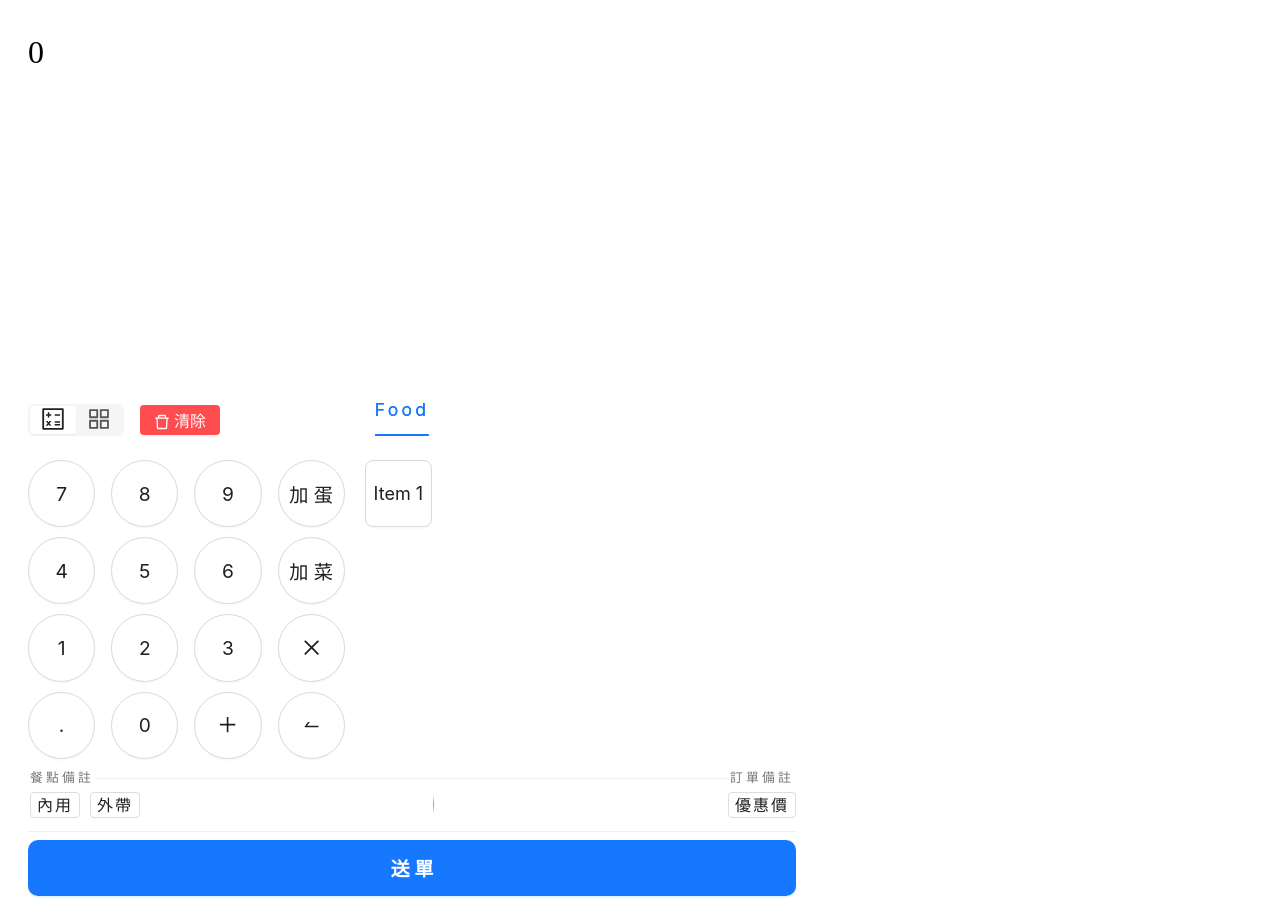
Scenario: Keyboard Component › handles total editing correctly
Note: Add some value first
Click the button "1" at (62, 648), box [28,614,95,682]
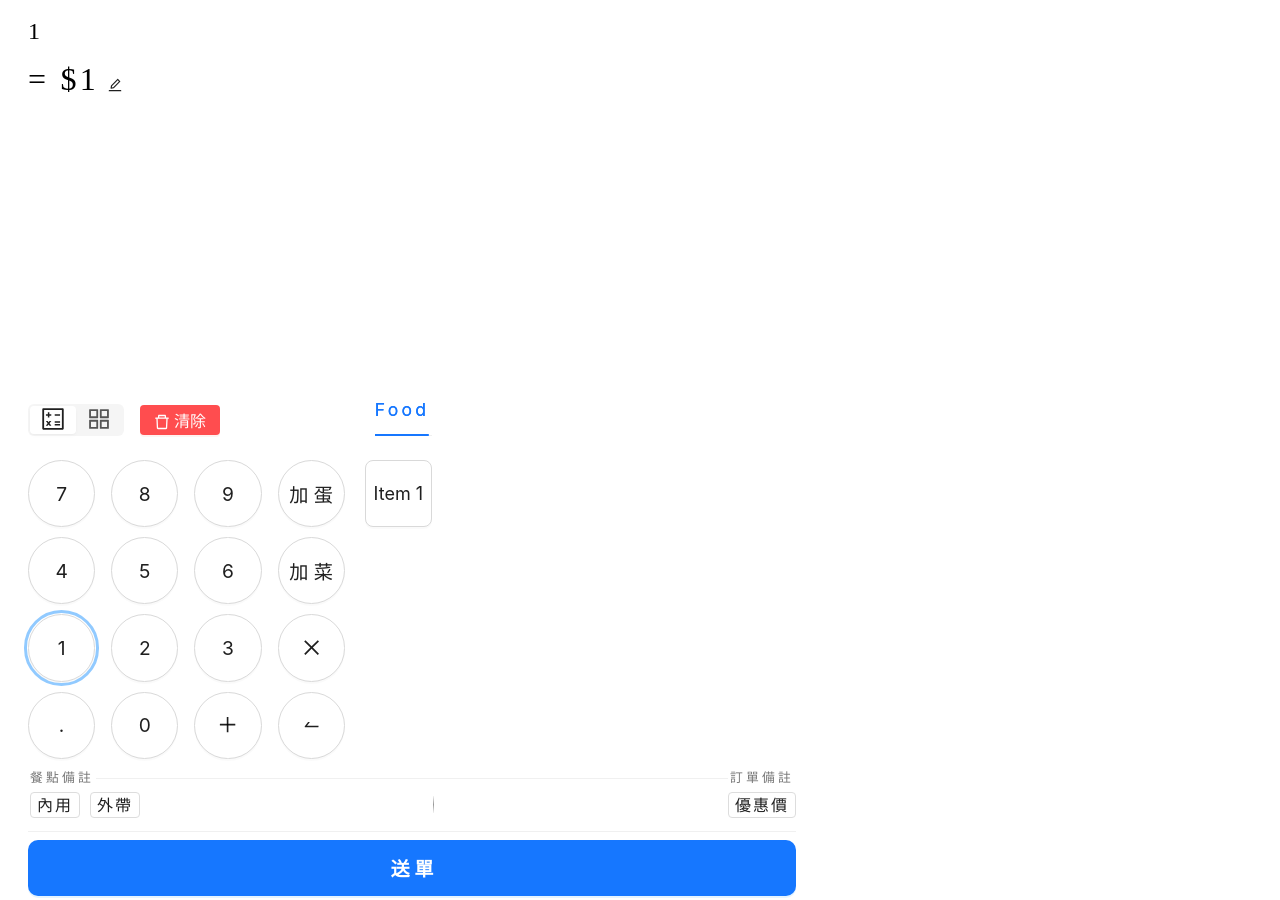
Note: Click edit button
Click the button named "edit" next to "= $1" at (115, 84), box [99,68,131,100]
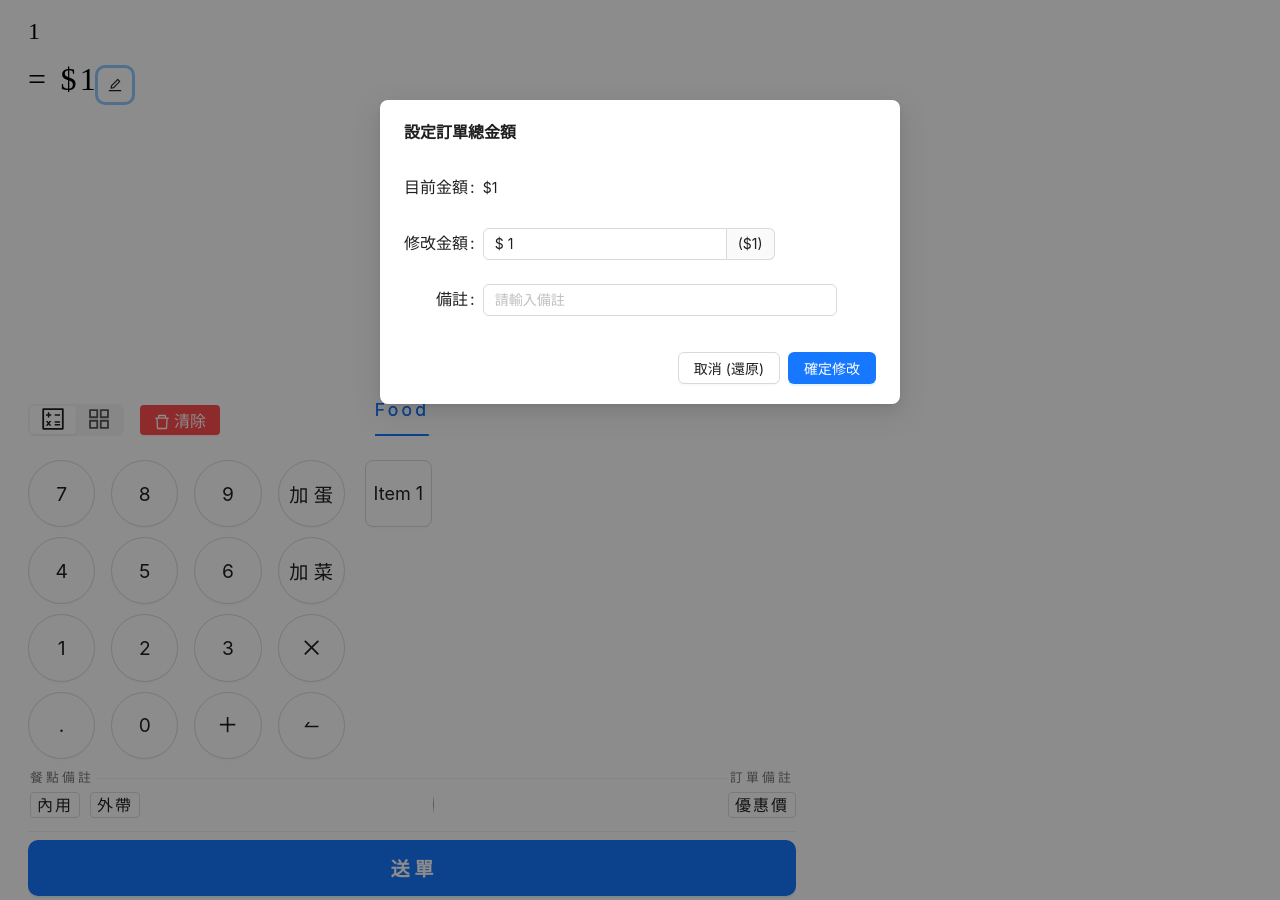
Result: the text "設定訂單總金額" is shown at [404,122,516,142]
Note: Edit the total
Replace the text in the number field with "50" at (617, 244), box [508,229,726,259]
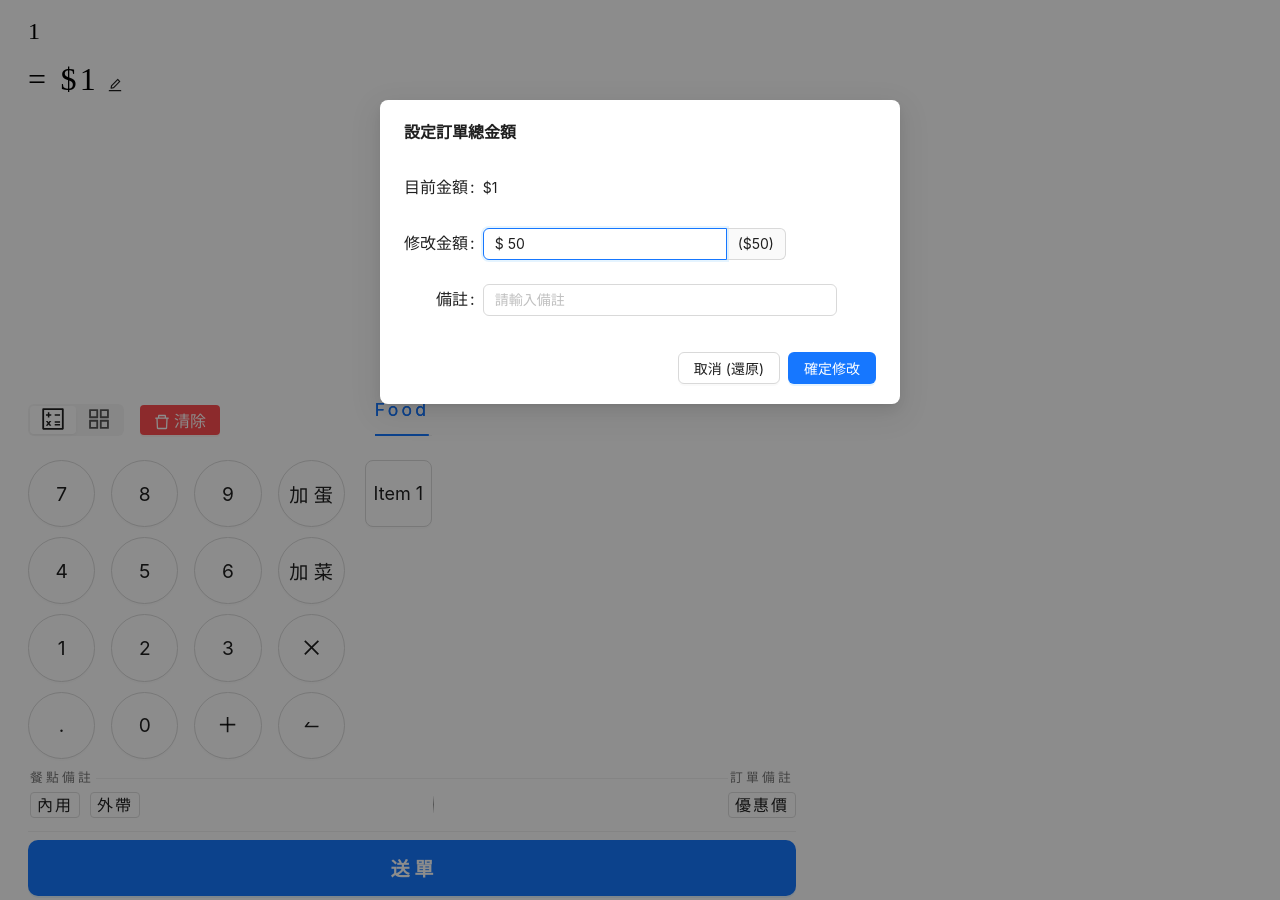
Note: Confirm changes
Click the button "確定修改" at (832, 368), box [788,352,876,384]
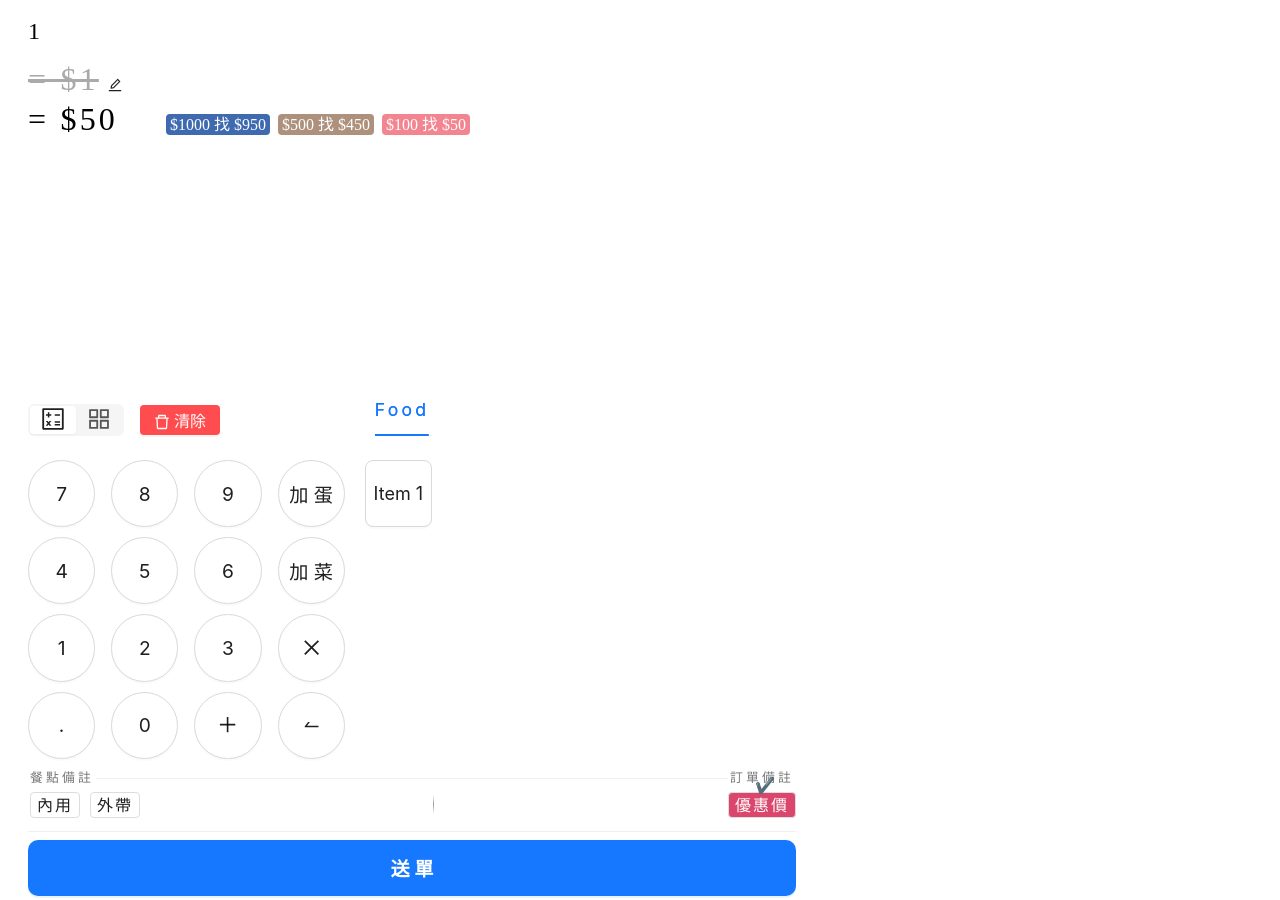
Expected: the text "優惠價" is shown, [735,795,789,815]
Result: the text "= $50" is shown at [28,100,118,136]
